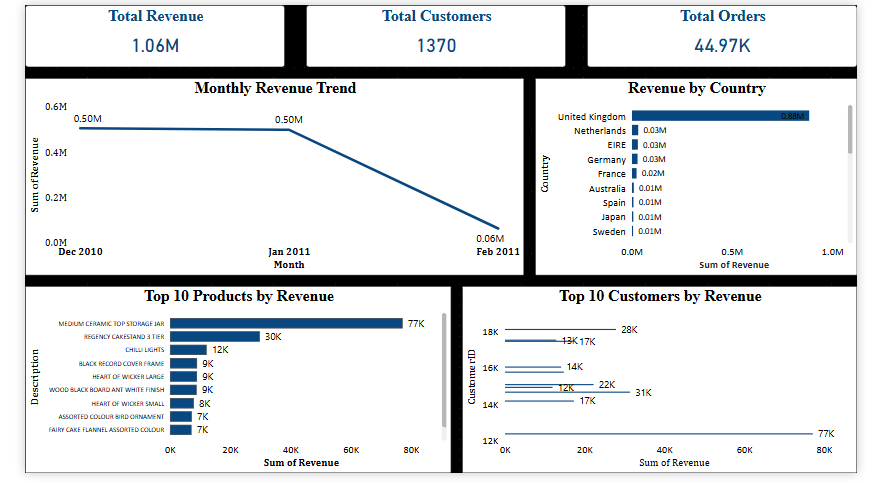

What the dashboard file says about the page in this screenshot:
{"tool":"powerbi","page":{"name":"ecommerece_data_analysis_","canvas":[1280,720],"ordinal":0},"visuals":[{"type":"card","title":"Total Revenue","fields":{"Values":["Sum(Cleaned_ecommerce_data 187k.Revenue)"]},"box":[0,0,400,96],"z":0},{"type":"card","title":"Total Customers","fields":{"Values":["Count(Cleaned_ecommerce_data 187k.CustomerID)"]},"box":[432,0,400,96],"z":1000},{"type":"card","title":"Total Orders","fields":{"Values":["CountNonNull(Cleaned_ecommerce_data 187k.InvoiceNo)"]},"box":[864,0,416,96],"z":2000},{"type":"lineChart","title":"Monthly Revenue Trend","fields":{"Y":["Sum(Cleaned_ecommerce_data 187k.Revenue)"],"Category":["Cleaned_ecommerce_data 187k.Month"]},"box":[0,112,816,304],"z":3000},{"type":"clusteredBarChart","title":"Top 10 Products by Revenue","fields":{"Category":["Cleaned_ecommerce_data 187k.Description"],"Y":["Sum(Cleaned_ecommerce_data 187k.Revenue)"]},"box":[0,432,656,288],"z":4000},{"type":"clusteredBarChart","title":"Top 10 Customers by Revenue","fields":{"Category":["Cleaned_ecommerce_data 187k.CustomerID"],"Y":["Sum(Cleaned_ecommerce_data 187k.Revenue)"]},"box":[672,432,608,288],"z":5000},{"type":"clusteredBarChart","title":"Revenue by Country","fields":{"Category":["Cleaned_ecommerce_data 187k.Country"],"Y":["Sum(Cleaned_ecommerce_data 187k.Revenue)"]},"box":[832,112,448,304],"z":6000}]}

Visuals, with their boxes in screenshot pixels (x1, y1, x2, y2), scaled from the page's 1280x720 canvas onto the 873x483 screenshot:
"Total Revenue" card: locate(0, 0, 273, 64)
"Total Customers" card: locate(295, 0, 567, 64)
"Total Orders" card: locate(589, 0, 872, 64)
"Monthly Revenue Trend" lineChart: locate(0, 75, 557, 279)
"Top 10 Products by Revenue" clusteredBarChart: locate(0, 290, 447, 482)
"Top 10 Customers by Revenue" clusteredBarChart: locate(458, 290, 872, 482)
"Revenue by Country" clusteredBarChart: locate(567, 75, 872, 279)
